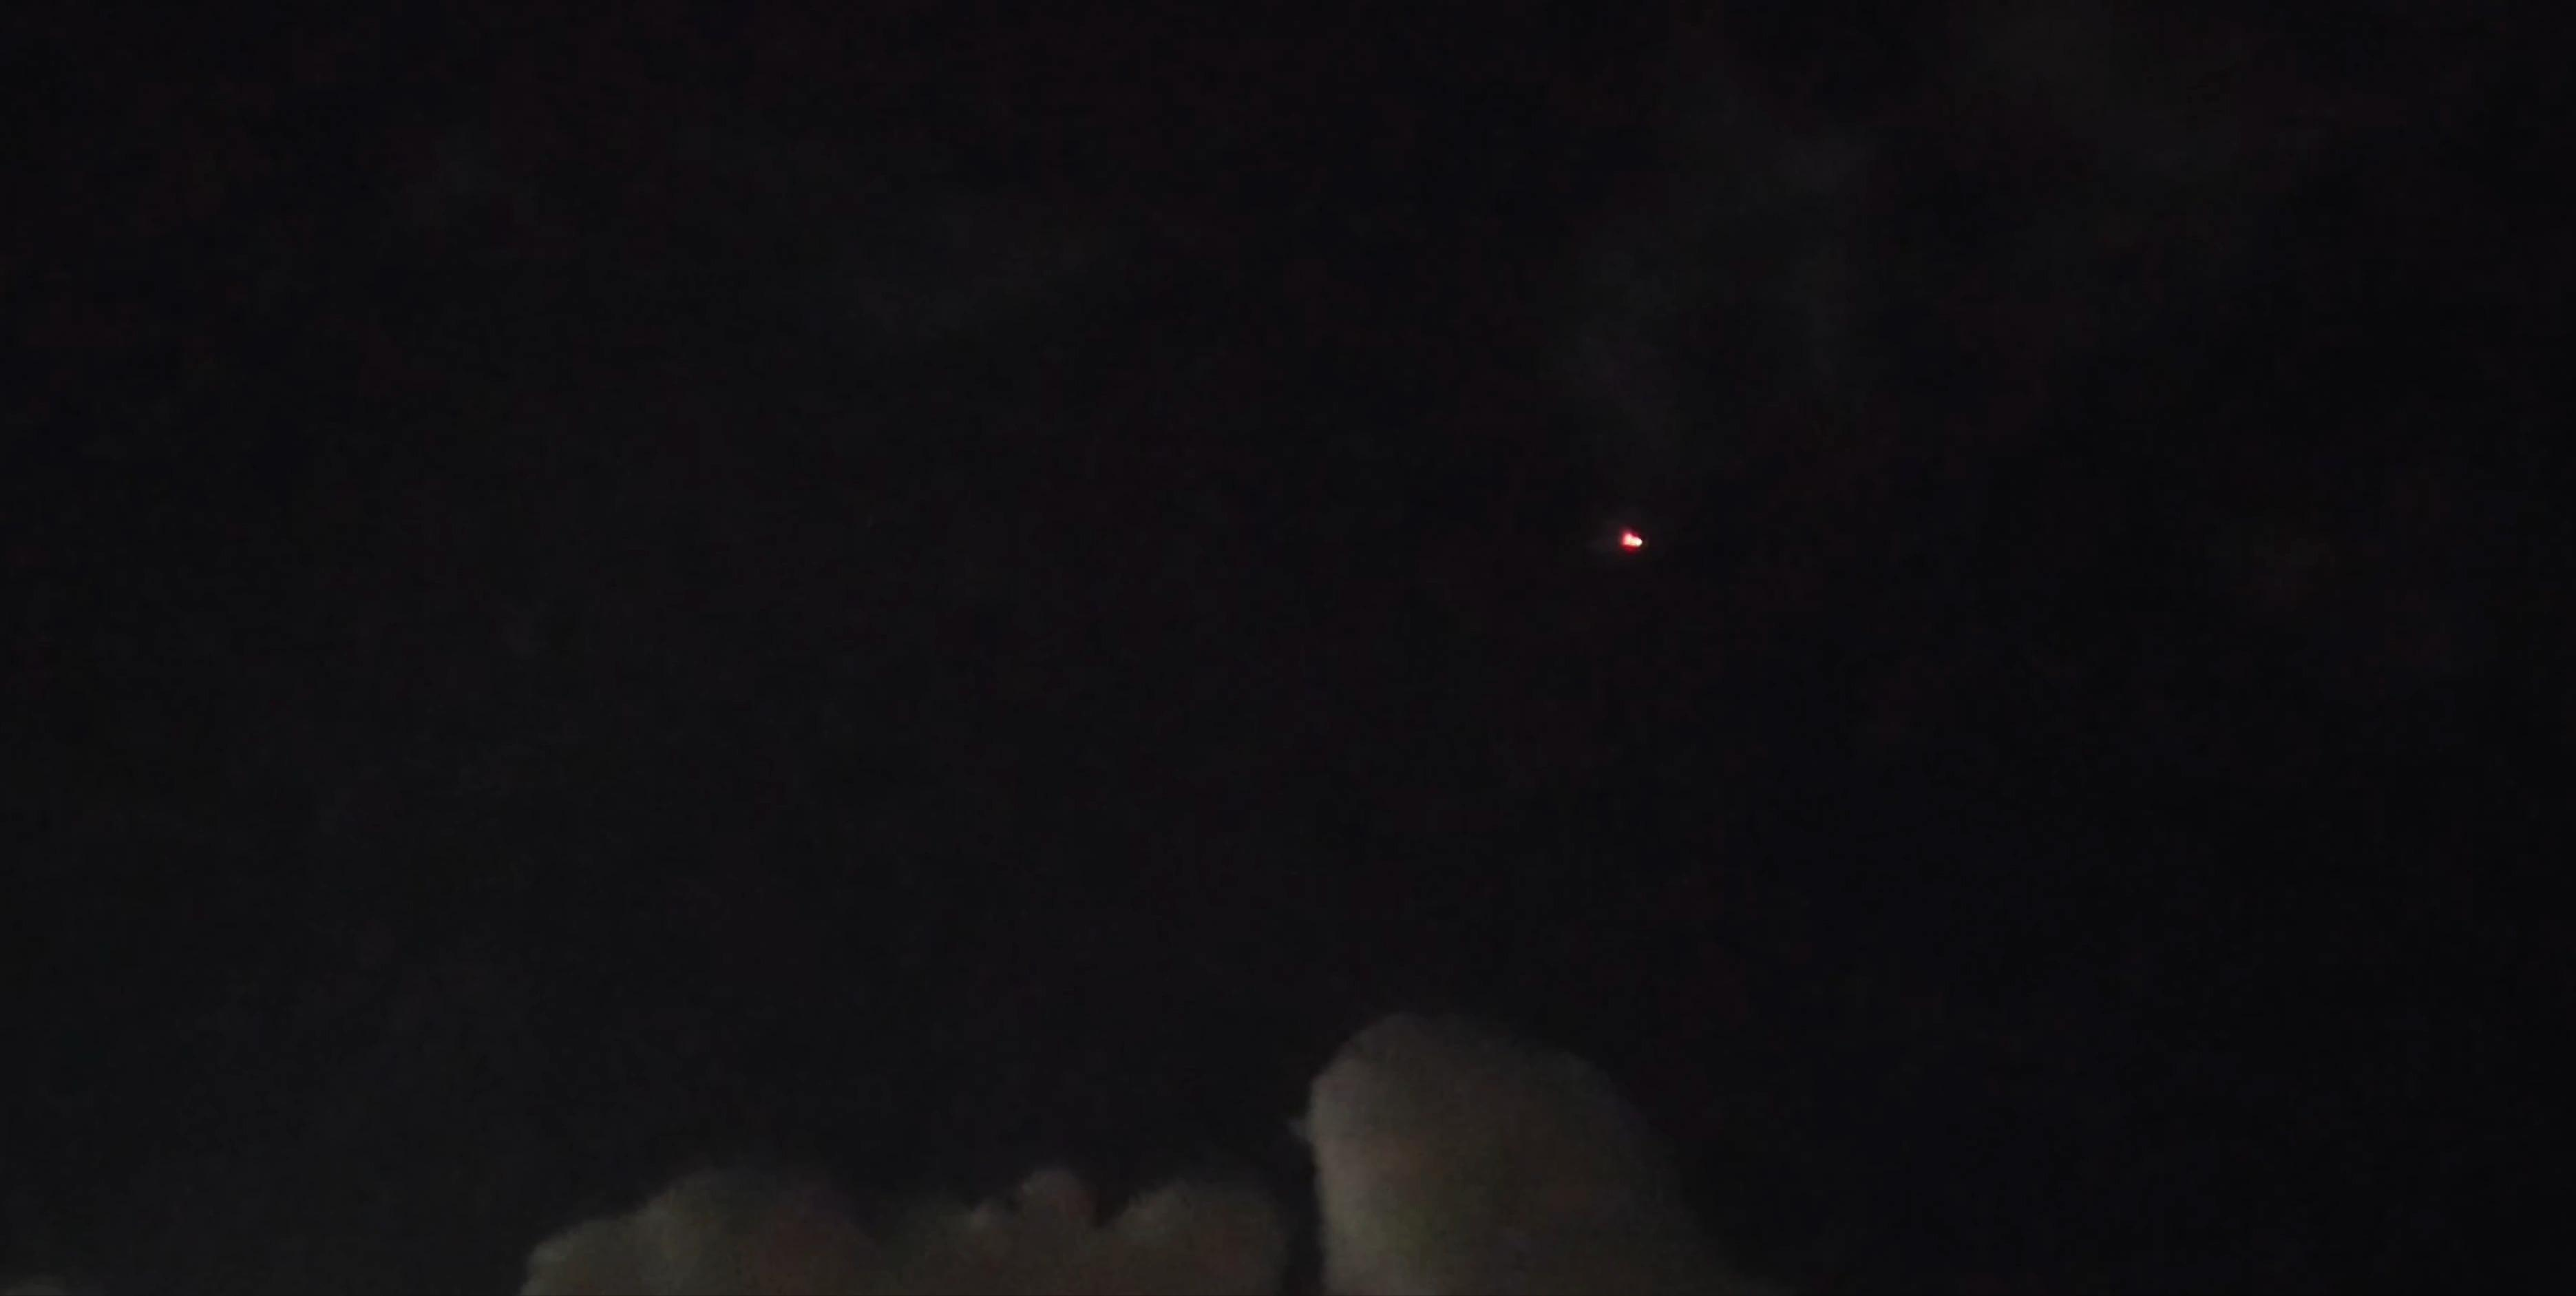Plane: (1568, 506, 1715, 585)
